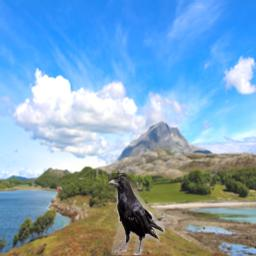Crow: (108, 173, 165, 255)
